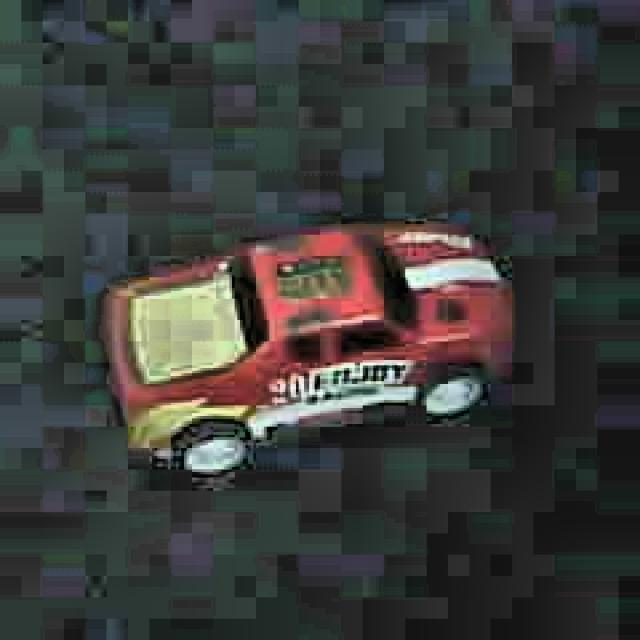car: (100, 217, 516, 484)
